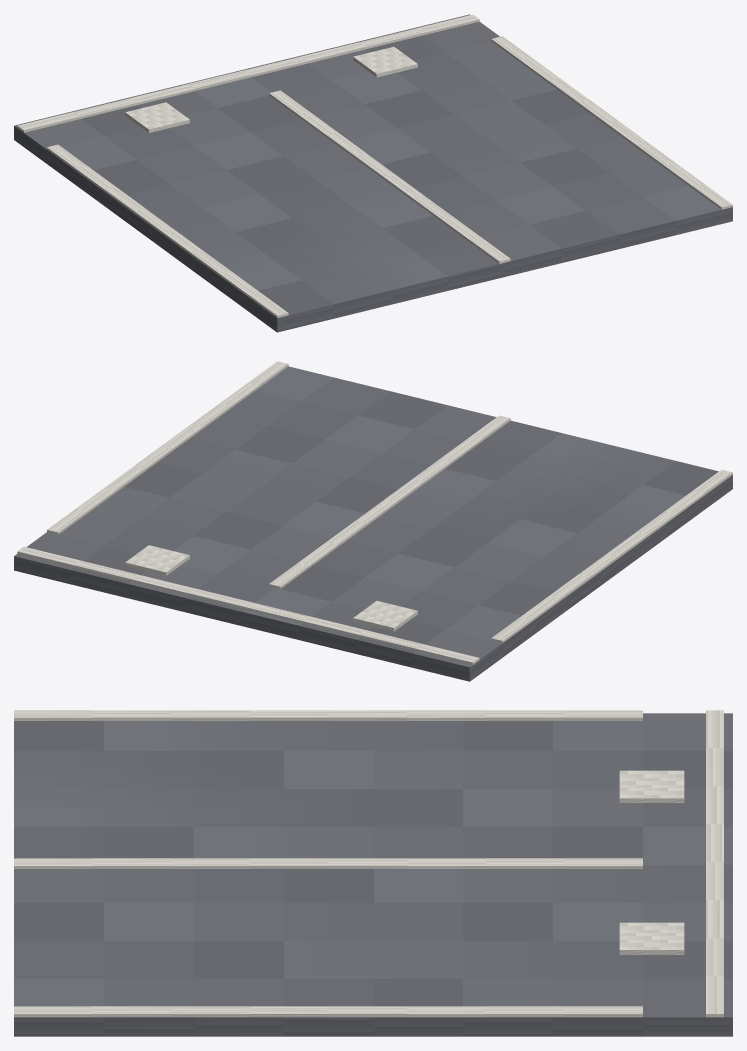
The model's file is pixel-modern-city-street-car-park-bay-tile-556b2d5e__28994.glb.
3 renders of one model, top to bottom at view 1: azimuth 30°, elevation 25°; view 2: azimuth 150°, elevation 25°; view 3: azimuth 270°, elevation 25°, orthographic. The views are drawn at different scales.
Parts seen in each view (by area): view 1: car-park-bay-tile; view 2: car-park-bay-tile; view 3: car-park-bay-tile.
Boxes of the visible parts, x1,y1,x2,y2 form: car-park-bay-tile: (14, 14, 732, 332); car-park-bay-tile: (14, 361, 732, 681); car-park-bay-tile: (14, 710, 732, 1036).
Bounding box in the file's own units: 4 × 0.15 × 4.
2 materials, 2 textured.
